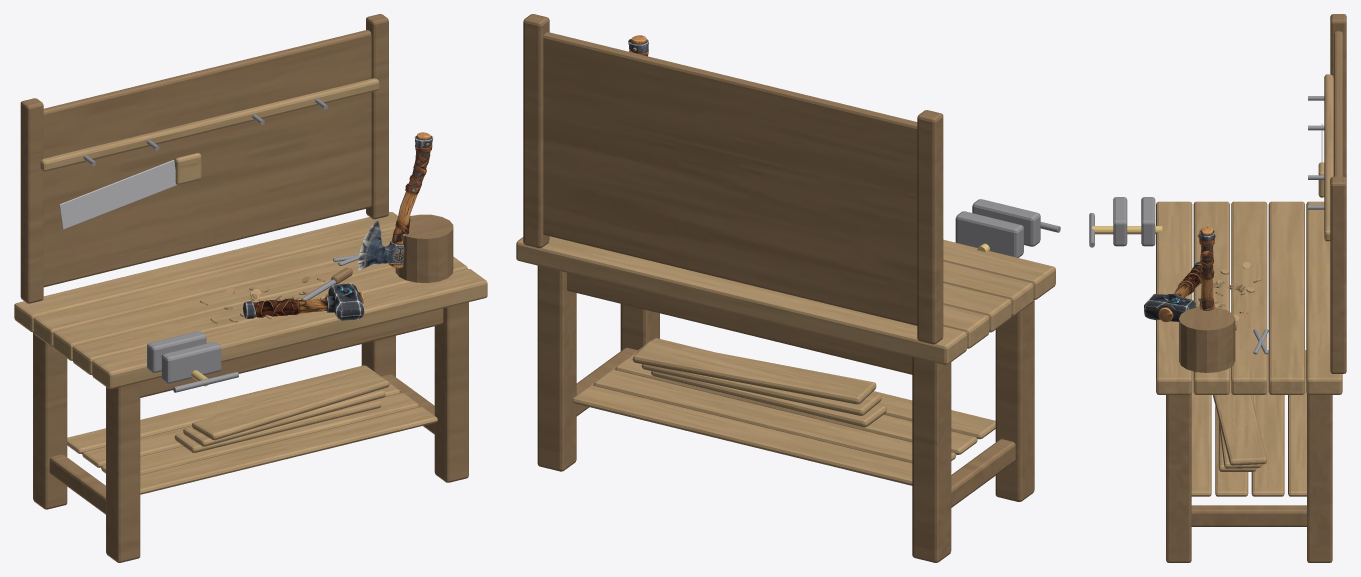
File: werkbank.glb
3 renders of one model, left to right at view 1: azimuth 30°, elevation 25°; view 2: azimuth 150°, elevation 25°; view 3: azimuth 270°, elevation 25°, orthographic. The views are drawn at different scales.
Parts seen in each view (by area): view 1: werkbank_holz, saegeblatt, baum.001, baum, backe2, backe1; view 2: werkbank_holz, backe1, backe2; view 3: werkbank_holz, baum, baum.001, backe1, backe2, spindel.
Part boxes in pixels (bbox=[...]): werkbank_holz: bbox=[14, 14, 487, 562]; saegeblatt: bbox=[59, 160, 177, 229]; baum.001: bbox=[358, 132, 433, 270]; baum: bbox=[243, 283, 364, 320]; backe2: bbox=[161, 342, 221, 383]; backe1: bbox=[147, 331, 206, 372]; werkbank_holz: bbox=[516, 14, 1055, 562]; backe1: bbox=[955, 211, 1023, 257]; backe2: bbox=[972, 199, 1040, 246]; werkbank_holz: bbox=[1156, 14, 1346, 562]; baum: bbox=[1144, 261, 1201, 322]; baum.001: bbox=[1197, 226, 1215, 310]; backe1: bbox=[1141, 197, 1155, 246]; backe2: bbox=[1113, 197, 1127, 246]; spindel: bbox=[1092, 226, 1162, 234].
Bounding box in the file's own units: 1.8 × 1.8 × 1.1.
6 materials, 3 textured.
